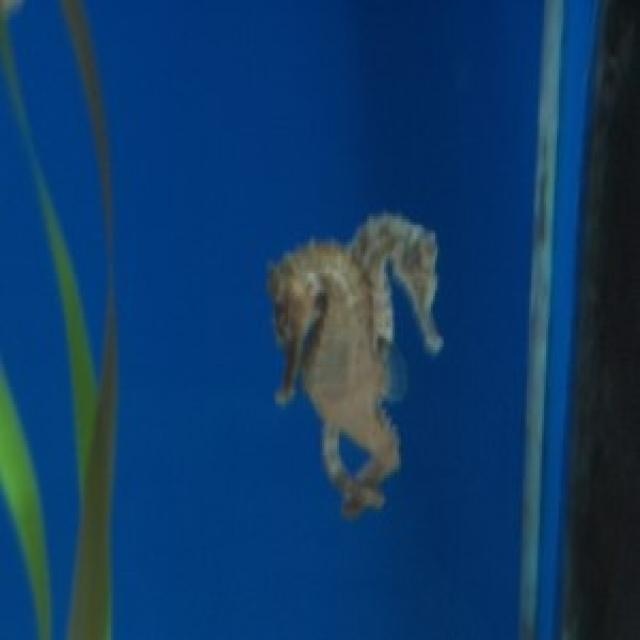Seahorse: (228, 156, 465, 566), (364, 180, 444, 436)
